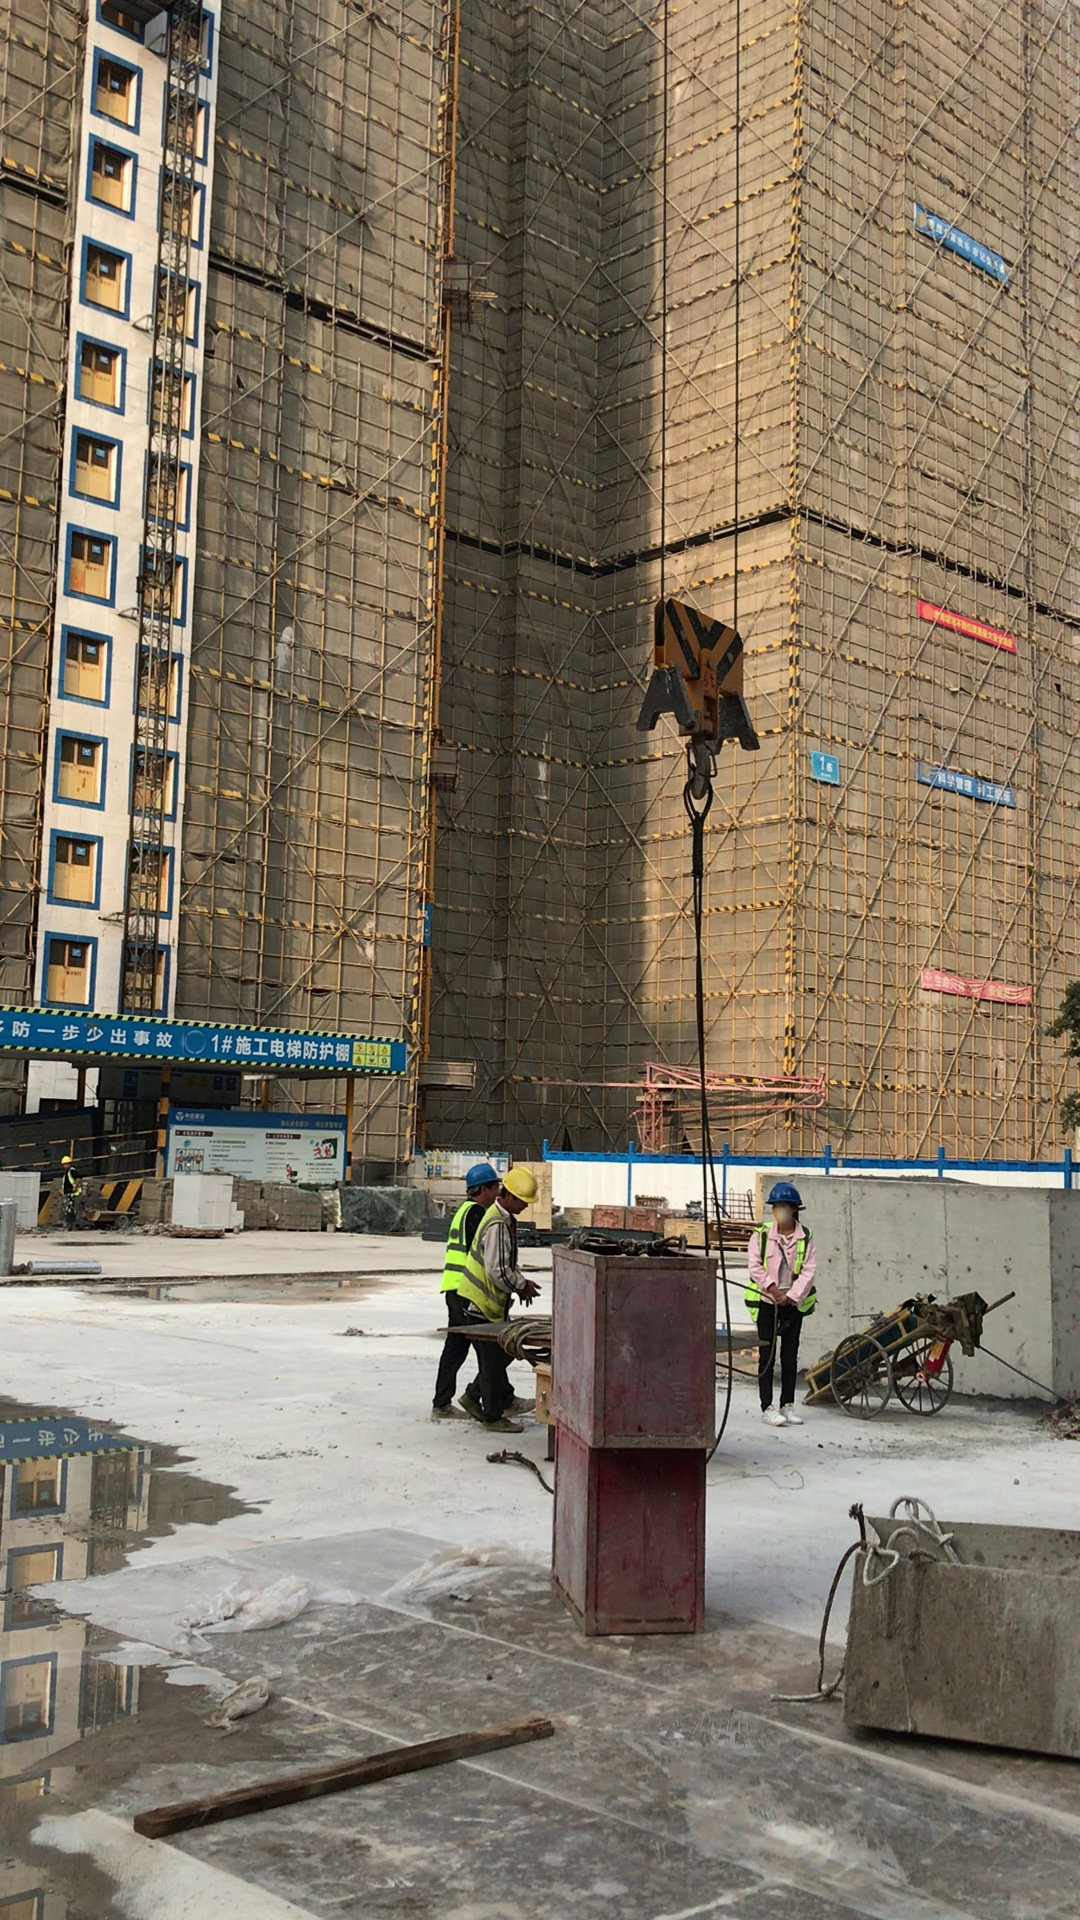brick: (169, 1167, 246, 1234), (1, 1166, 51, 1236)
ebox: (526, 1360, 562, 1443)
fence: (33, 1130, 164, 1179)
handcart: (803, 1290, 1019, 1417)
helmet: (500, 1164, 538, 1204), (459, 1160, 501, 1192), (764, 1178, 808, 1207), (57, 1153, 74, 1164)
hook: (575, 545, 839, 882)
hopper: (838, 1483, 1080, 1769)
person: (455, 1148, 548, 1444), (744, 1172, 820, 1432), (432, 1162, 497, 1428), (53, 1149, 88, 1234)
slogan: (1, 1009, 404, 1082), (166, 1106, 349, 1185), (912, 209, 1031, 286), (914, 586, 1029, 660), (912, 967, 1040, 1014), (914, 756, 1023, 811), (424, 1146, 484, 1180), (806, 741, 842, 792)
vest: (742, 1219, 822, 1320), (456, 1204, 526, 1319), (436, 1197, 476, 1300), (59, 1167, 84, 1196)
wood: (232, 1175, 326, 1234), (138, 1175, 173, 1226)
